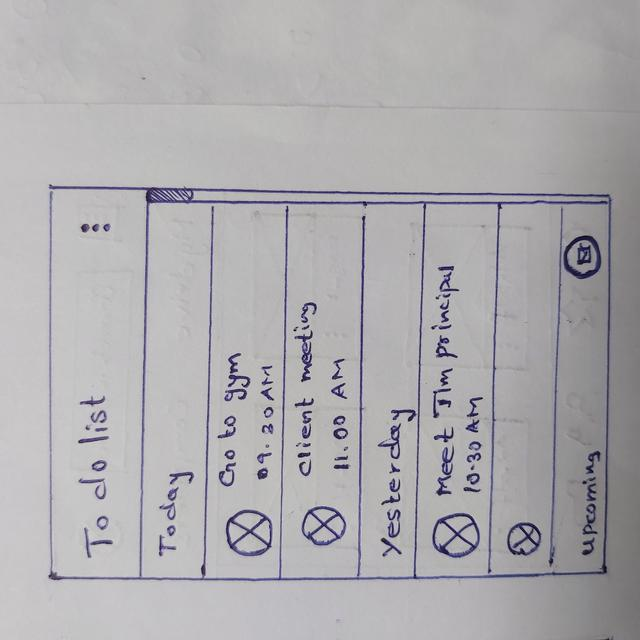ActionButton: (49, 207, 145, 255)
AppBar: (44, 188, 142, 581)
Fab: (565, 235, 599, 279)
Icon: (78, 221, 113, 233)
Layout: (208, 204, 284, 577), (284, 201, 359, 577), (425, 207, 492, 575), (493, 212, 551, 568)
ListView: (210, 209, 361, 578), (421, 210, 555, 578)
MainLayout: (43, 183, 610, 578)
RoundedImage: (430, 514, 481, 560), (225, 511, 273, 556), (303, 507, 348, 547), (507, 523, 543, 557)
ScrollBar: (146, 188, 611, 207)
TextView: (78, 397, 116, 556), (437, 266, 451, 496), (386, 410, 404, 564), (298, 301, 313, 477), (222, 353, 239, 488), (331, 360, 351, 472), (158, 472, 181, 557), (257, 366, 273, 481), (465, 396, 480, 489), (587, 450, 598, 558)
VerticalListView: (208, 210, 364, 578), (424, 208, 552, 576)
